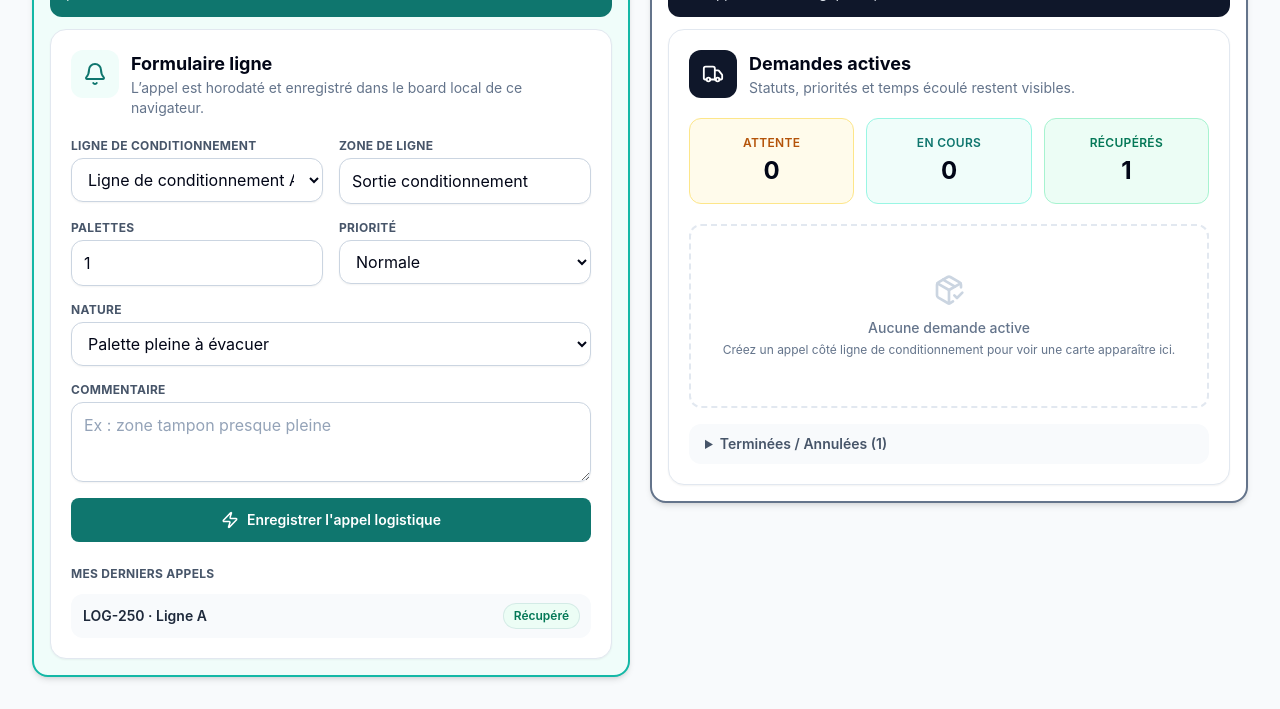
it: Logistics reliable persistence › T20/T40: terminal v8 data without completedAt migrates without inventing a timestamp
(page scrolled)
Click the heading "Terminées / Annulées (1)" at (798, 444), box top-left (689, 424), bottom-right (1209, 464)
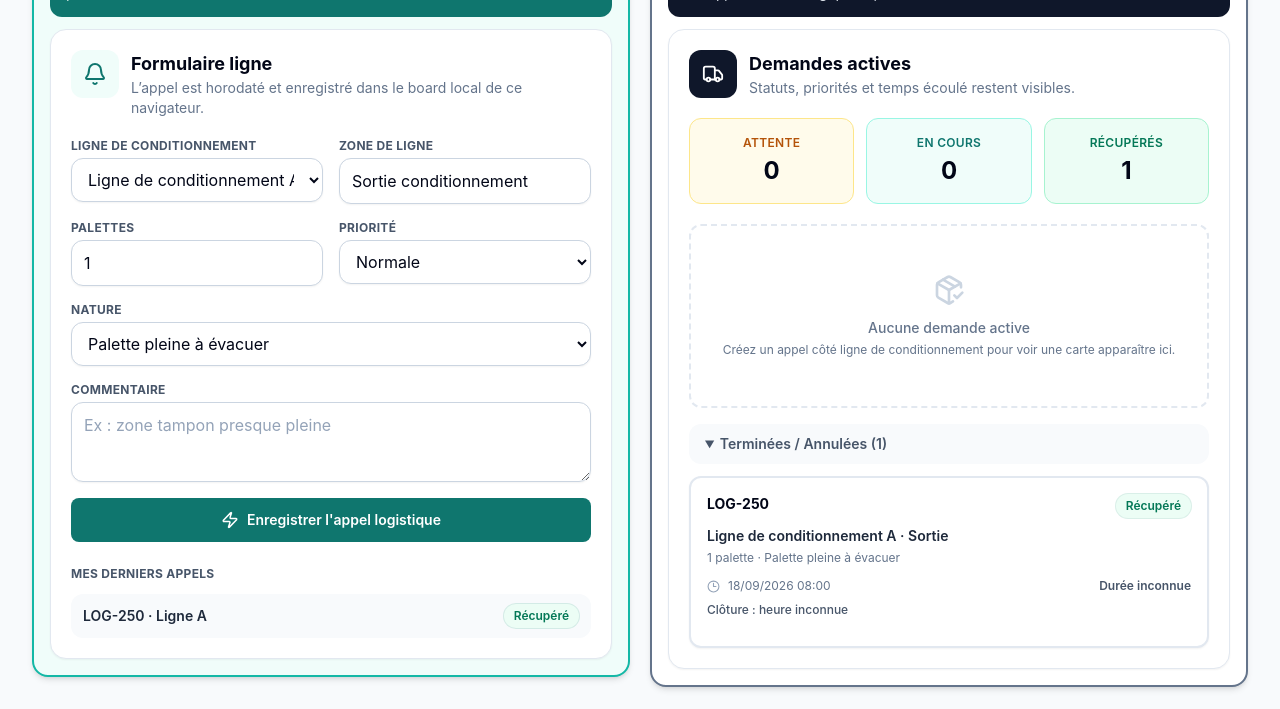
Check: the text "Clôture : heure inconnue" is shown, box top-left (707, 602), bottom-right (848, 617)
Check: the text "Durée inconnue" is shown, box top-left (1099, 578), bottom-right (1191, 594)
